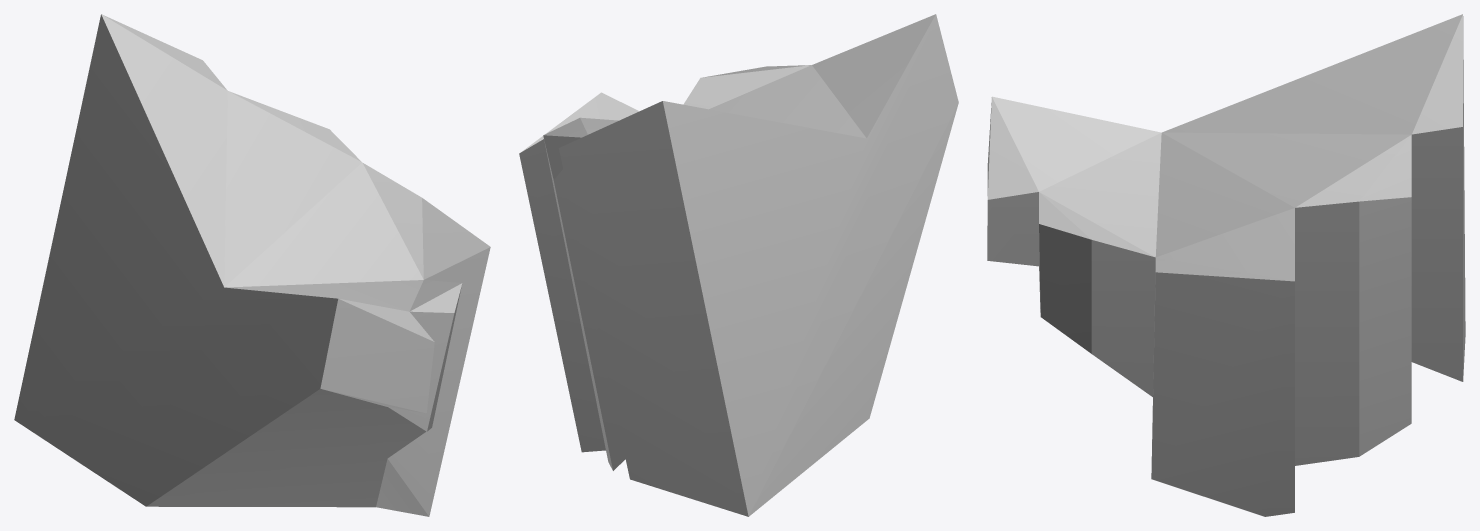
The model's file is debris2.fbx.
3 views of the same model, side by side, from view 1: azimuth 30°, elevation 25°; view 2: azimuth 150°, elevation 25°; view 3: azimuth 270°, elevation 25° (orthographic). The views are drawn at different scales.
Parts seen in each view (by area): view 1: debris2; view 2: debris2; view 3: debris2.
Part boxes in pixels (bbox=[...]): debris2: bbox=[14, 14, 490, 516]; debris2: bbox=[519, 14, 958, 516]; debris2: bbox=[987, 14, 1465, 516].
Bounding box in the file's own units: 43.97 × 60.66 × 61.7.
